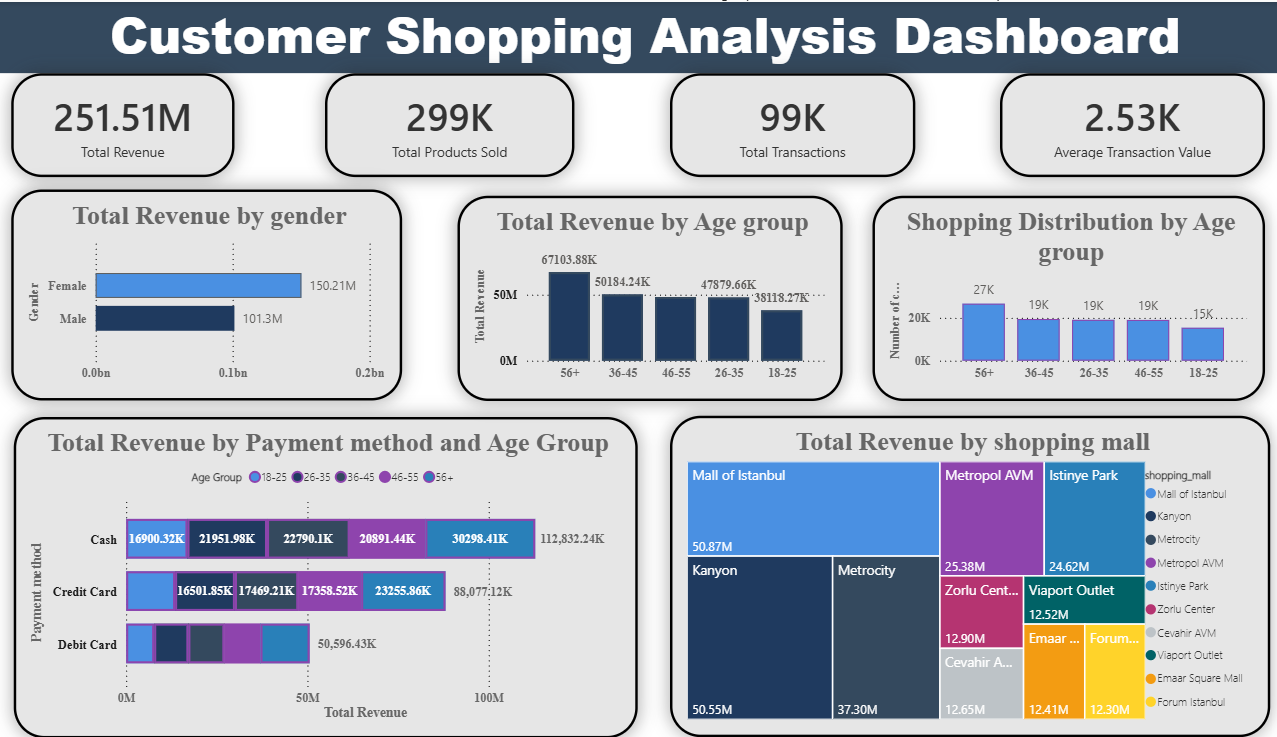

The page's visual inventory and layout, read from the dashboard file:
{"tool":"powerbi","page":{"name":"Customer Shopping Analysis Dashboard","canvas":[1280,720],"ordinal":1},"visuals":[{"type":"textbox","box":[9.3,0,1270.9,81.4],"z":0},{"type":"card","fields":{"Values":["customer dataset full.Total Revenue"]},"box":[20.6,70,218.2,101.5],"z":1000},{"type":"card","fields":{"Values":["customer dataset full.Total Products Sold"]},"box":[328,70,244.3,101.5],"z":2000},{"type":"card","fields":{"Values":["customer dataset full.Total Transactions"]},"box":[665.5,70,240.1,101.5],"z":3000},{"type":"card","fields":{"Values":["customer dataset full.Average Transaction Value"]},"box":[988,70,259.3,101.5],"z":4000},{"type":"clusteredBarChart","fields":{"Category":["customer dataset full.gender"],"Y":["customer dataset full.Total Revenue"]},"box":[20.8,183.4,382.7,206.7],"z":5000},{"type":"clusteredColumnChart","title":"Shopping Distribution by Age group","fields":{"Category":["customer dataset full.Age Group"],"Y":["CountNonNull(customer dataset full.invoice_date)"]},"box":[863.3,189.5,384,200.5],"z":6000},{"type":"barChart","title":"Total Revenue by Payment method and Age Group","fields":{"Y":["customer dataset full.Total Revenue"],"Category":["customer dataset full.payment_method"],"Series":["customer dataset full.Age Group"]},"box":[23.2,406,610.2,314.3],"z":7000},{"type":"clusteredColumnChart","title":"Total Revenue by Age group","fields":{"Y":["customer dataset full.Total Revenue"],"Category":["customer dataset full.Age Group"]},"box":[457.3,189.5,376.6,200.5],"z":8000},{"type":"treemap","title":"Total Revenue by shopping mall","fields":{"Group":["customer dataset full.shopping_mall"],"Values":["customer dataset full.Total Revenue"]},"box":[665.5,404.8,587.3,314.2],"z":9000}]}

Visuals, with their boxes in screenshot pixels (x1, y1, x2, y2), scaled from the page's 1280x720 canvas onto the 1277x737 screenshot:
textbox: select_region(9, 0, 1276, 83)
card - customer dataset full.Total Revenue: select_region(21, 72, 238, 176)
card - customer dataset full.Total Products Sold: select_region(327, 72, 571, 176)
card - customer dataset full.Total Transactions: select_region(664, 72, 903, 176)
card - customer dataset full.Average Transaction Value: select_region(986, 72, 1244, 176)
clusteredBarChart - customer dataset full.gender x customer dataset full.Total Revenue: select_region(21, 188, 403, 399)
"Shopping Distribution by Age group" clusteredColumnChart: select_region(861, 194, 1244, 399)
"Total Revenue by Payment method and Age Group" barChart: select_region(23, 416, 632, 736)
"Total Revenue by Age group" clusteredColumnChart: select_region(456, 194, 832, 399)
"Total Revenue by shopping mall" treemap: select_region(664, 414, 1250, 736)
